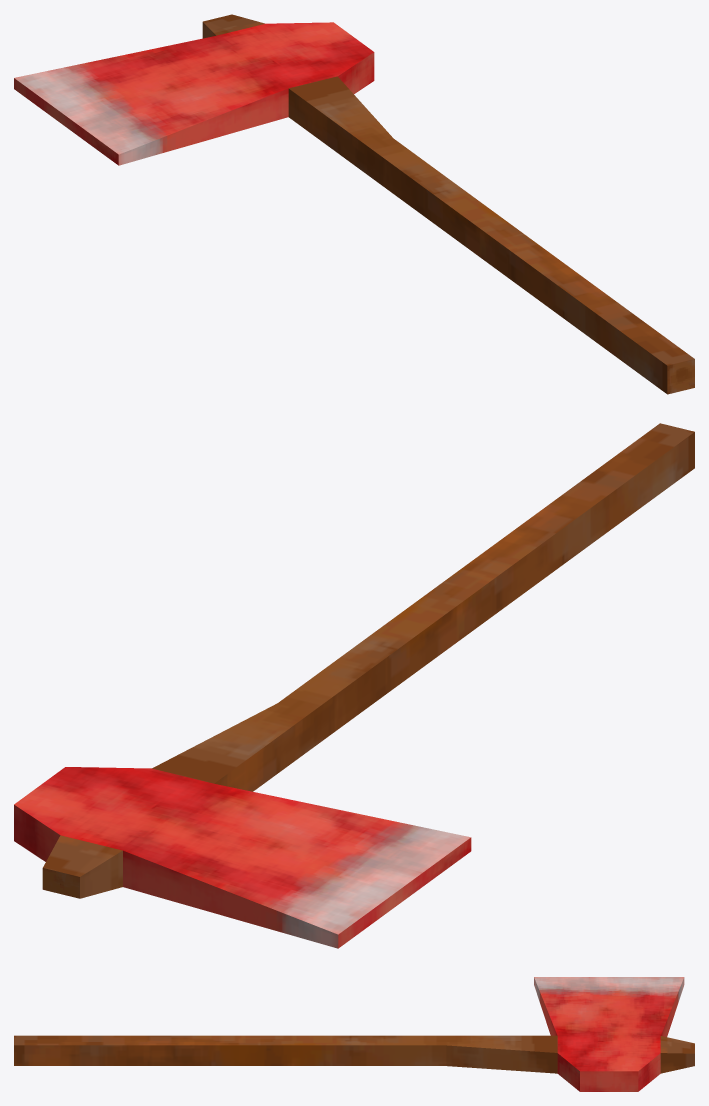
File: axe.glb
3 views of the same model, one above another, from view 1: azimuth 30°, elevation 25°; view 2: azimuth 150°, elevation 25°; view 3: azimuth 270°, elevation 25° (orthographic). The views are drawn at different scales.
Parts seen in each view (by area): view 1: Cube; view 2: Cube; view 3: Cube.
Boxes of the visible parts, x1,y1,x2,y2 form: Cube: (14,14,694,394); Cube: (14,423,694,948); Cube: (14,977,694,1091).
Size of the model in its own units: 1.05 by 0.1 by 2.99.
Materials: 1 (1 with a texture image).
